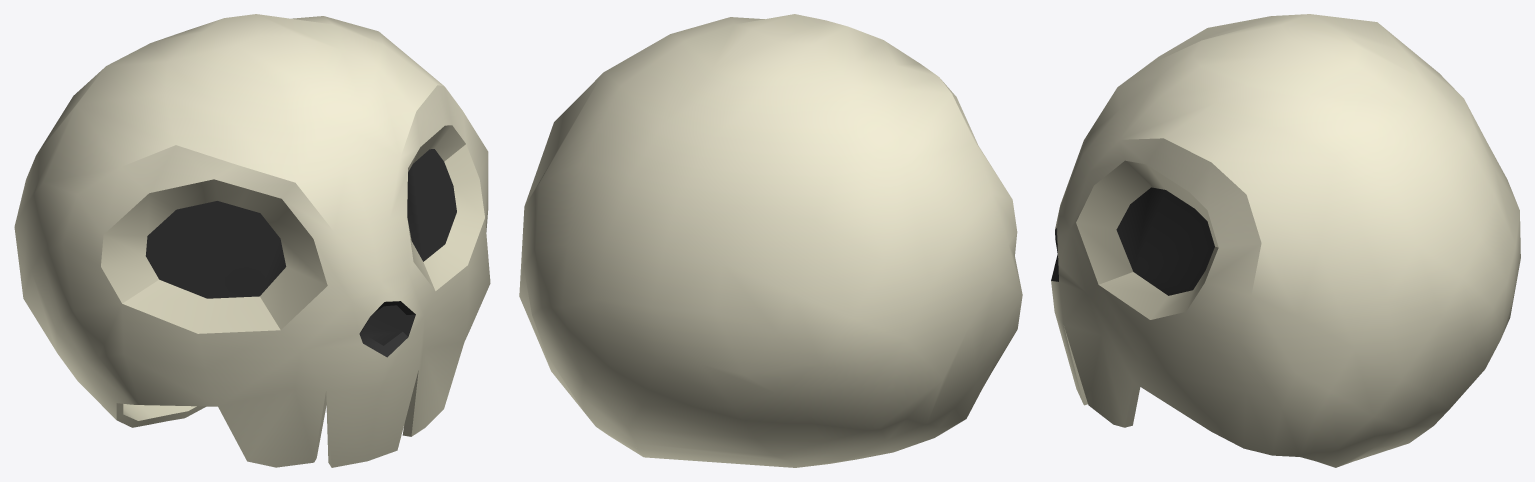
Rendered from SM_Skull.fbx.
3 views of the same model, side by side, from view 1: azimuth 30°, elevation 25°; view 2: azimuth 150°, elevation 25°; view 3: azimuth 270°, elevation 25° (orthographic). The views are drawn at different scales.
Visible parts, largest first — view 1: Skull; view 2: Skull; view 3: Skull.
Part boxes in pixels (x1,y1,x2,y2): Skull: (14,14,490,467); Skull: (519,14,1022,467); Skull: (1051,14,1520,467).
Size of the model in its own units: 77.27 by 65.2 by 73.6.
1 material, 1 textured.
